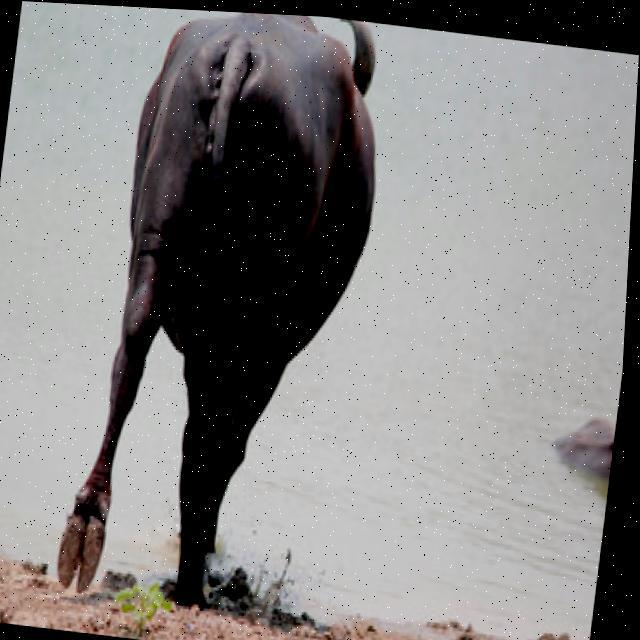Buffalo: (48, 4, 398, 625)
